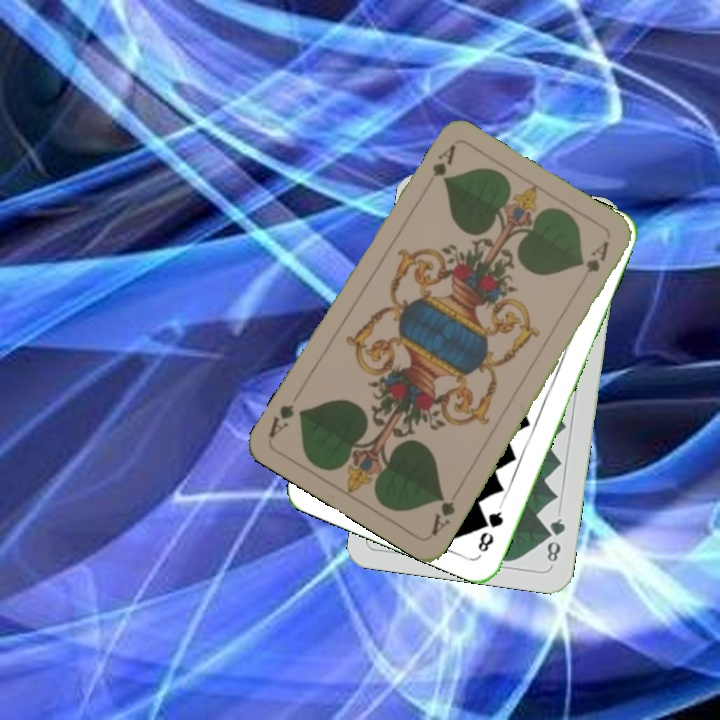G8: (474, 501, 506, 555), (542, 514, 568, 565)
GA: (427, 492, 458, 539), (428, 140, 459, 180)
